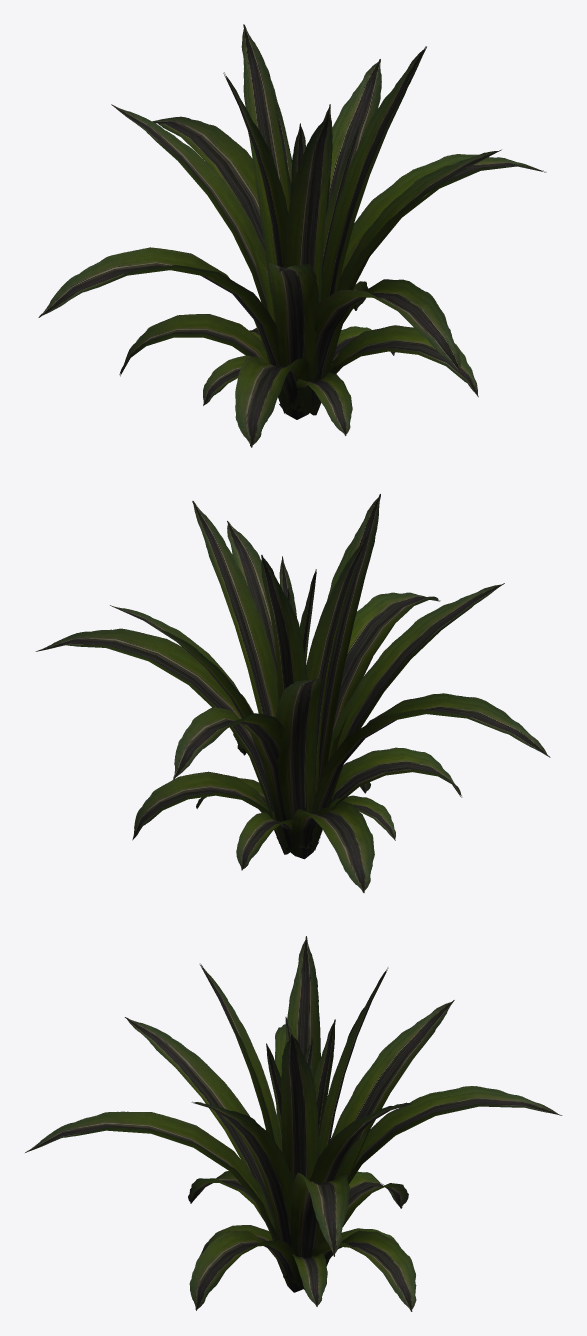
File: tropical-plant-big.glb
The picture shows the model from 3 angles, top to bottom: view 1: azimuth 30°, elevation 25°; view 2: azimuth 150°, elevation 25°; view 3: azimuth 270°, elevation 25°; orthographic projection. The views are drawn at different scales.
Size of the model in its own units: 286 by 184 by 282.
Materials: 1 (1 with a texture image).
